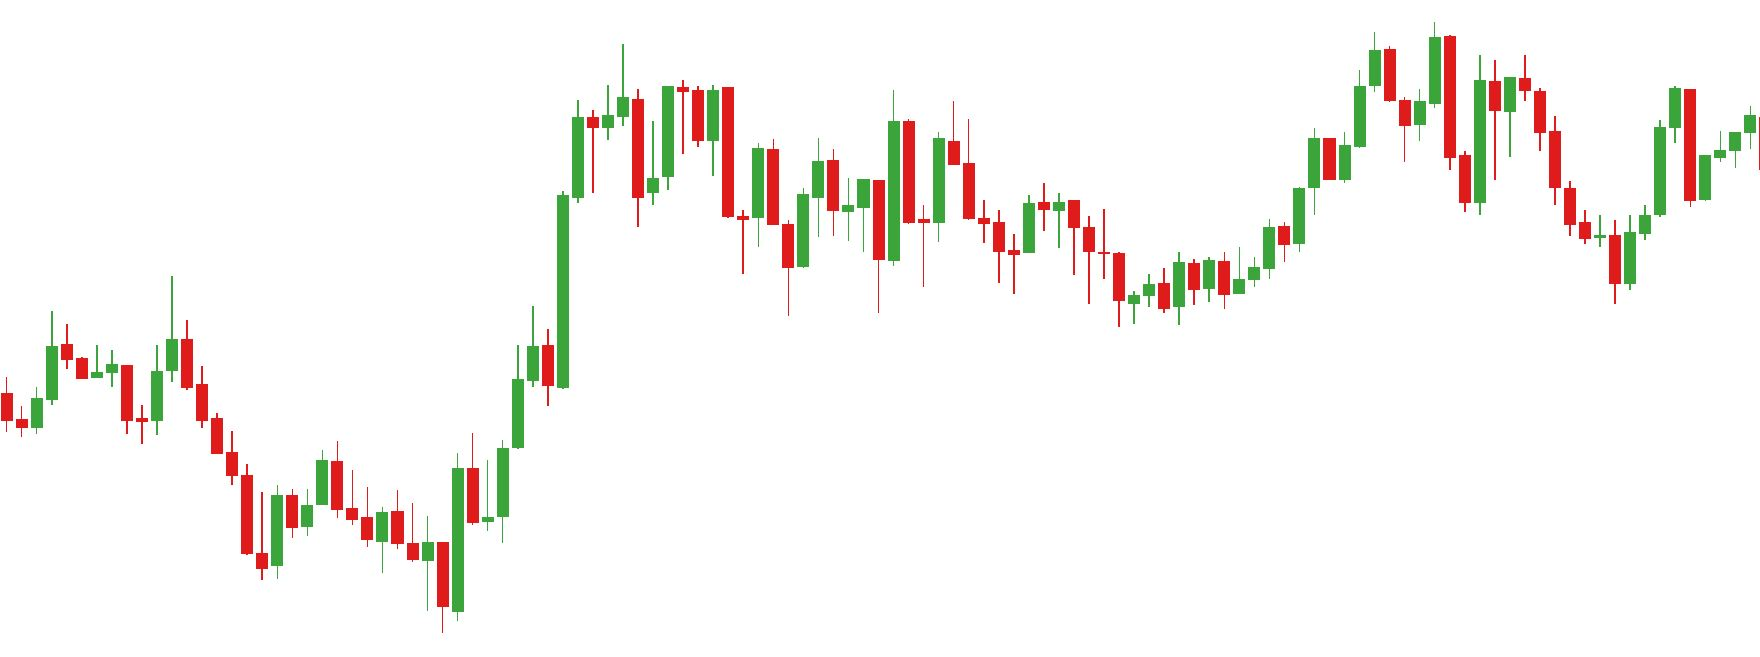sell: (45, 276, 192, 408), (1365, 21, 1457, 113)
